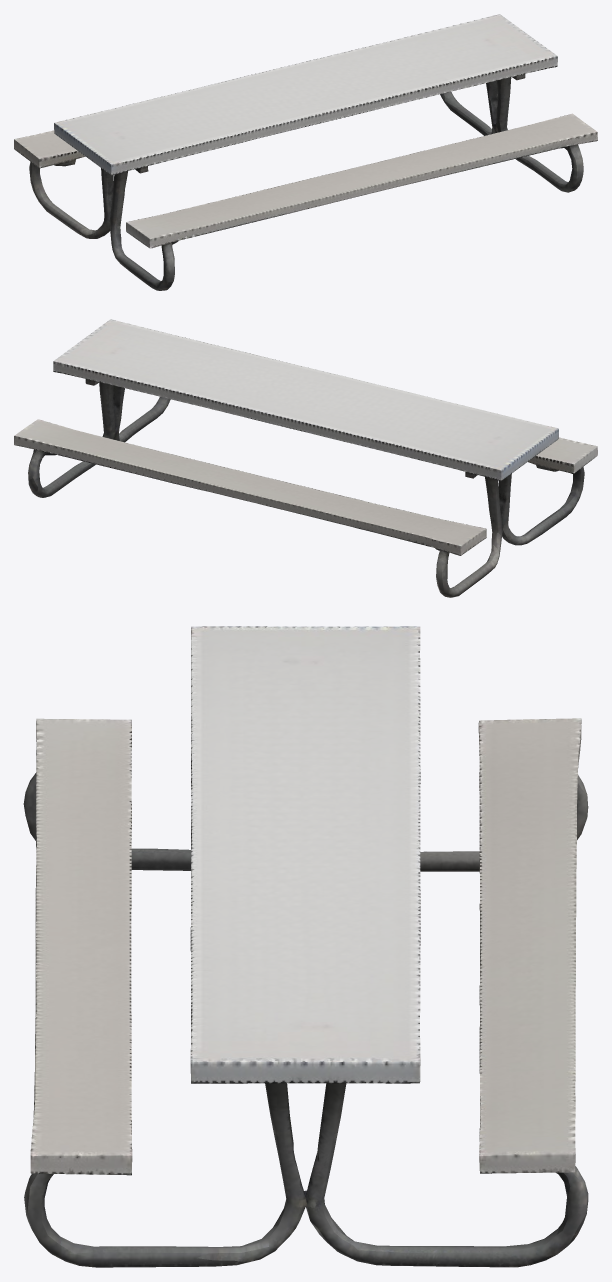
3 renders of one model, top to bottom at view 1: azimuth 30°, elevation 25°; view 2: azimuth 150°, elevation 25°; view 3: azimuth 270°, elevation 25°, orthographic. The views are drawn at different scales.
Visible parts, largest first — view 1: picnic-table; view 2: picnic-table; view 3: picnic-table.
Part boxes in pixels (x1,y1,x2,y2): picnic-table: (14, 14, 597, 290); picnic-table: (14, 319, 597, 597); picnic-table: (23, 626, 588, 1267).
Bounding box in the file's own units: 3.13 × 0.7505 × 1.71.
Materials: 1 (1 with a texture image).
